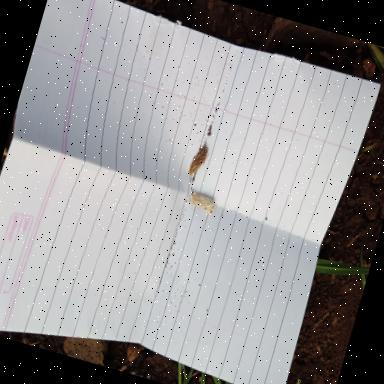pbw: (186, 143, 210, 179)
